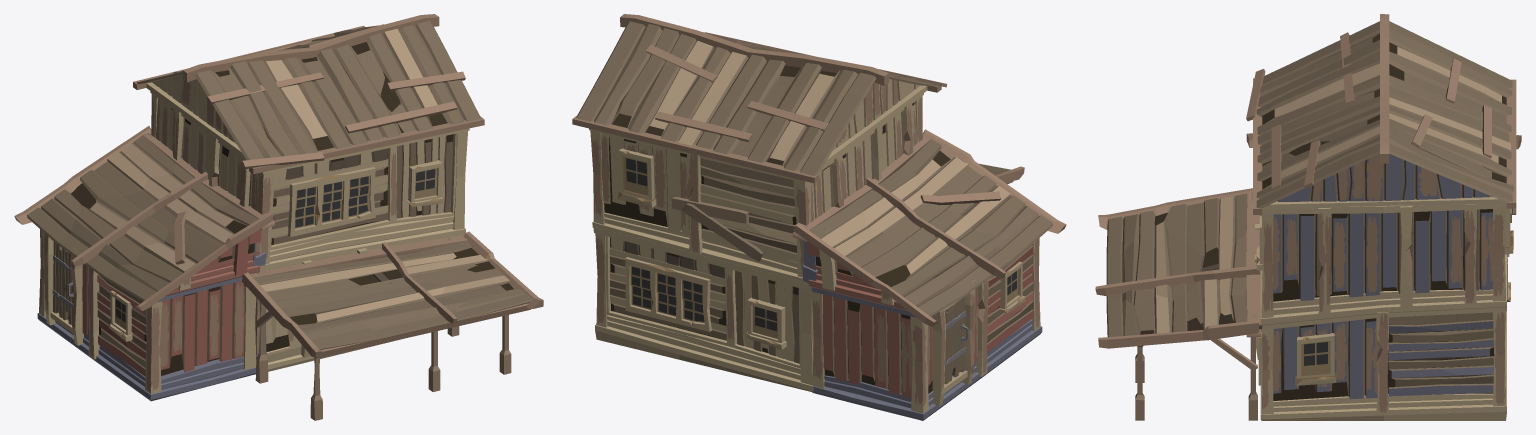
File: SM_Bld_Shanty_Preset_02.glb
The picture shows the model from 3 angles, left to right: view 1: azimuth 30°, elevation 25°; view 2: azimuth 150°, elevation 25°; view 3: azimuth 270°, elevation 25°; orthographic projection. The views are drawn at different scales.
Visible parts, largest first — view 1: SM_Bld_Shanty_Preset_02; view 2: SM_Bld_Shanty_Preset_02; view 3: SM_Bld_Shanty_Preset_02.
Boxes of the visible parts, x1,y1,x2,y2 form: SM_Bld_Shanty_Preset_02: (14,14,543,420); SM_Bld_Shanty_Preset_02: (572,14,1066,420); SM_Bld_Shanty_Preset_02: (1095,14,1521,420).
Bounding box in the file's own units: 0.0933 × 0.0662 × 0.0864.
Materials: 1 (1 with a texture image).
